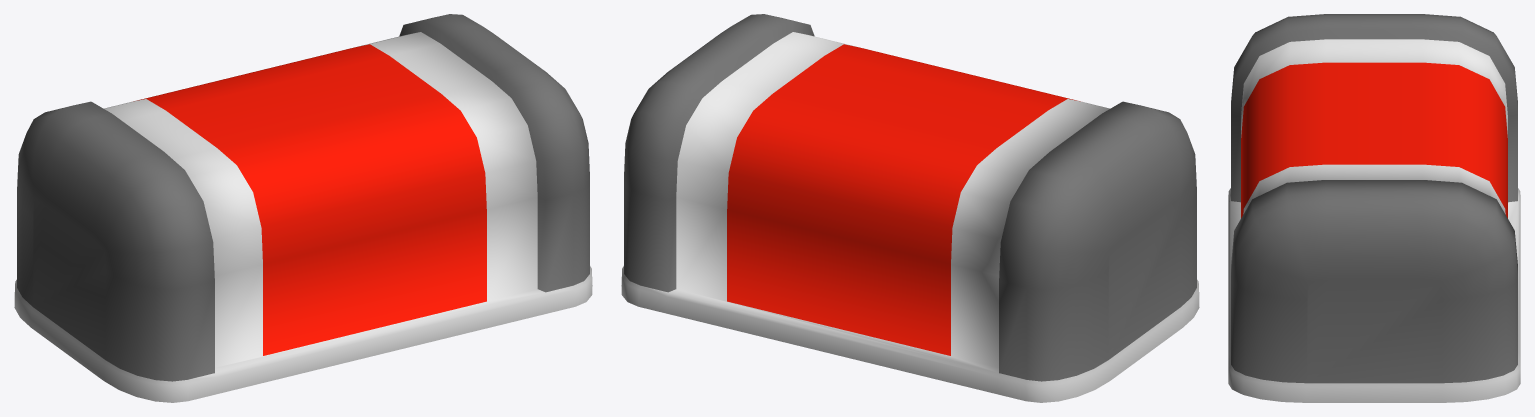
The model's file is KeysBlackNote.fbx.
3 renders of one model, left to right at view 1: azimuth 30°, elevation 25°; view 2: azimuth 150°, elevation 25°; view 3: azimuth 270°, elevation 25°, orthographic. The views are drawn at different scales.
Visible parts, largest first — view 1: Cube.106; view 2: Cube.106; view 3: Cube.106.
Boxes of the visible parts, x1,y1,x2,y2 form: Cube.106: [14, 14, 592, 402]; Cube.106: [621, 14, 1199, 402]; Cube.106: [1228, 14, 1520, 402].
Bounding box in the file's own units: 23.52 × 9.73 × 13.51.
